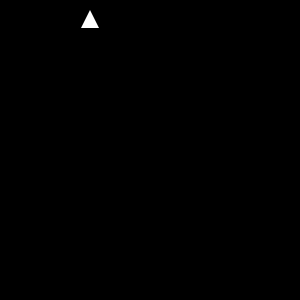triangle: (81, 10, 99, 28)
